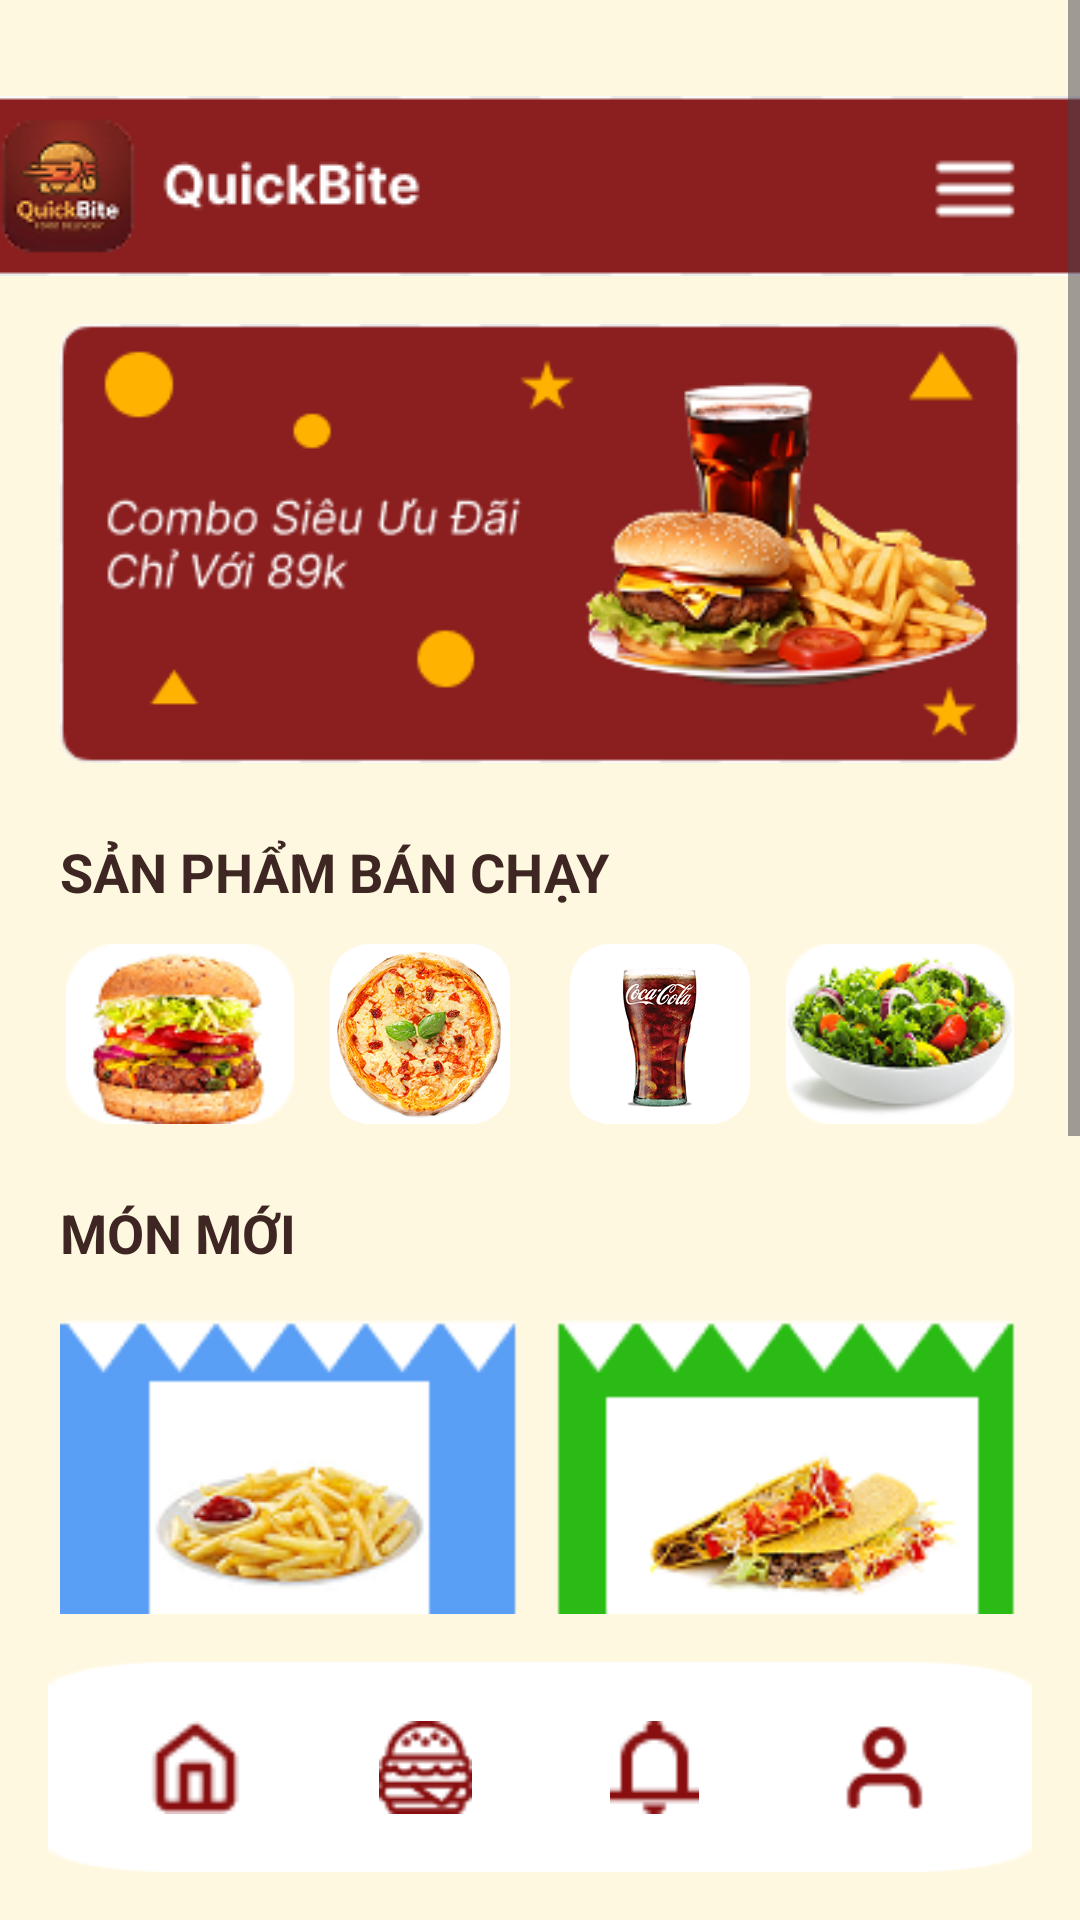

Icons on this 1080x1920 Android screen, each with the point to tap as (x,y):
menu: (975,189)
Thông báo: (654,1767)
Trang chủ: (195,1767)
Tài khoản: (884,1767)
Đồ ăn: (425,1767)
